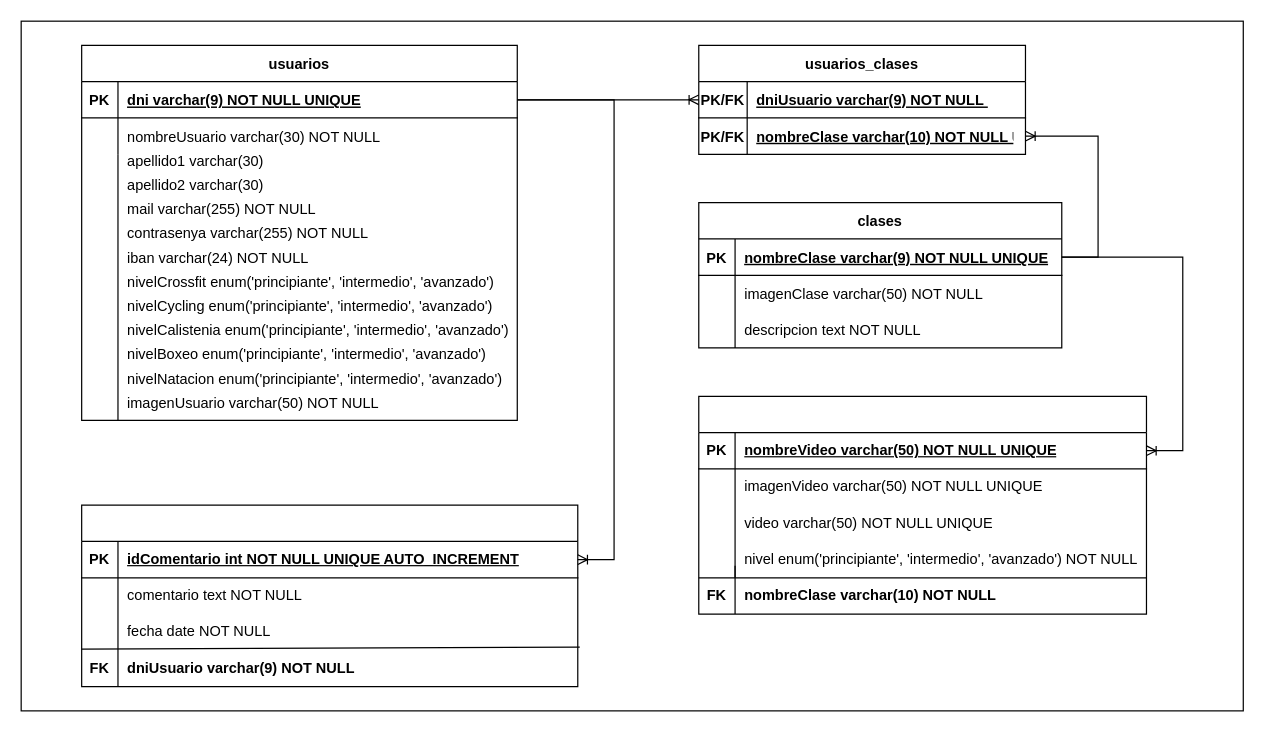
Some shapes in this 1264 by 732 pixel diagram are drawn without their labels. Here are the shapes that lost their labels. From the top down, the box of each, then its label:
(698, 395, 1146, 614): videos
(80, 504, 578, 687): comentarios
